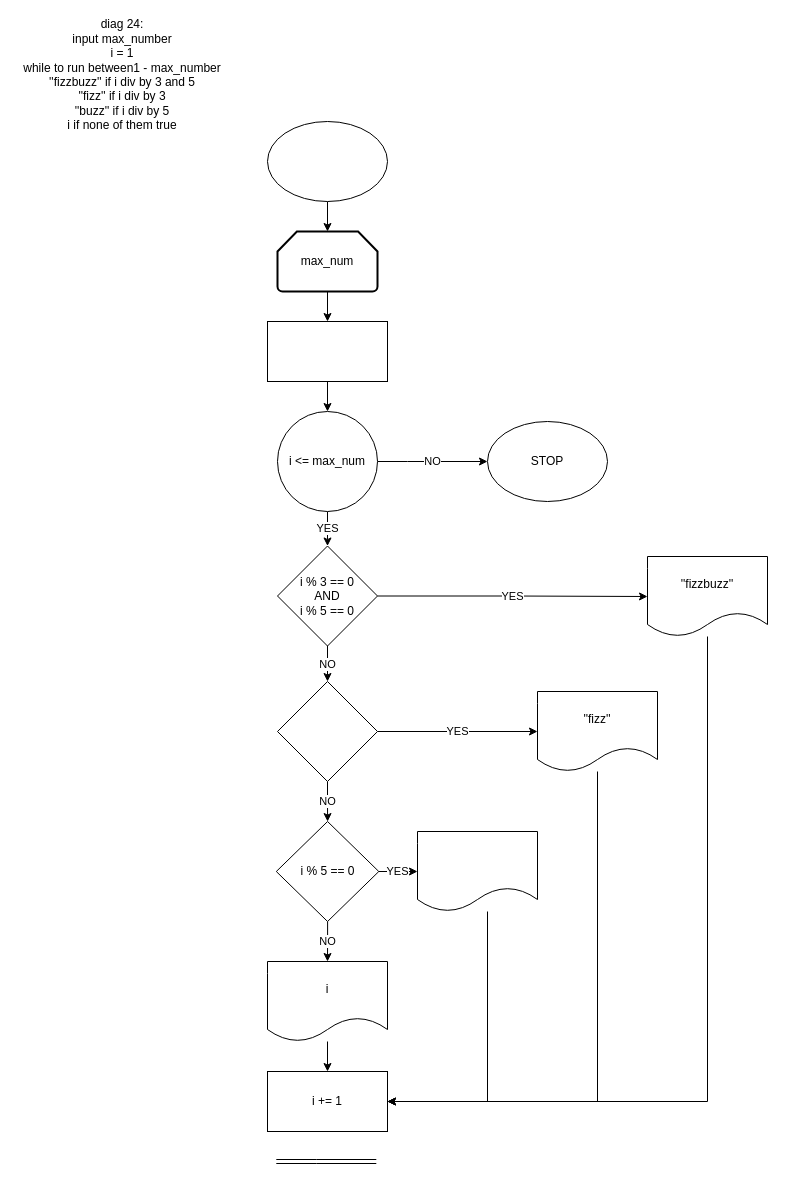
Some shapes in this 785 by 1181 pixel diagram are drawn without their labels. The shapes that lost their labels are listed below. From the top down, each one's centre as x and y in pixels, then its label:
At point 327,161: "START".
At point 327,351: "i = 1".
At point 327,731: "i % 3 == 0".
At point 477,871: "''buzz''".
